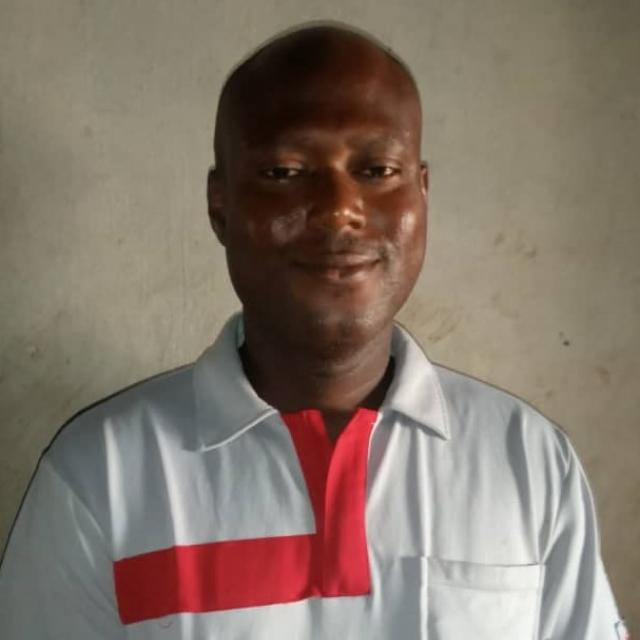happy: (202, 16, 436, 355)
